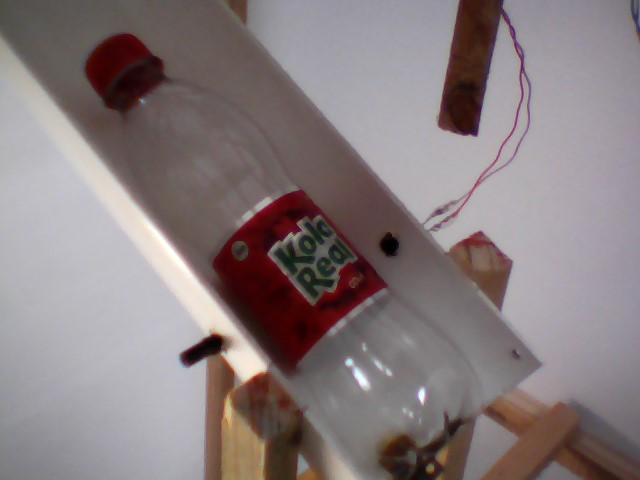plastico: (80, 30, 494, 480)
